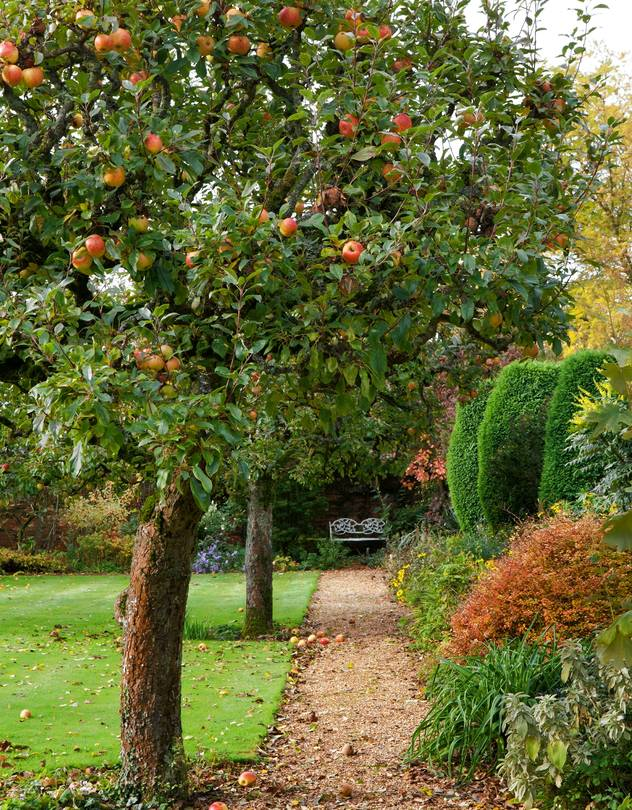tree: (118, 556, 188, 793), (242, 500, 273, 638)
